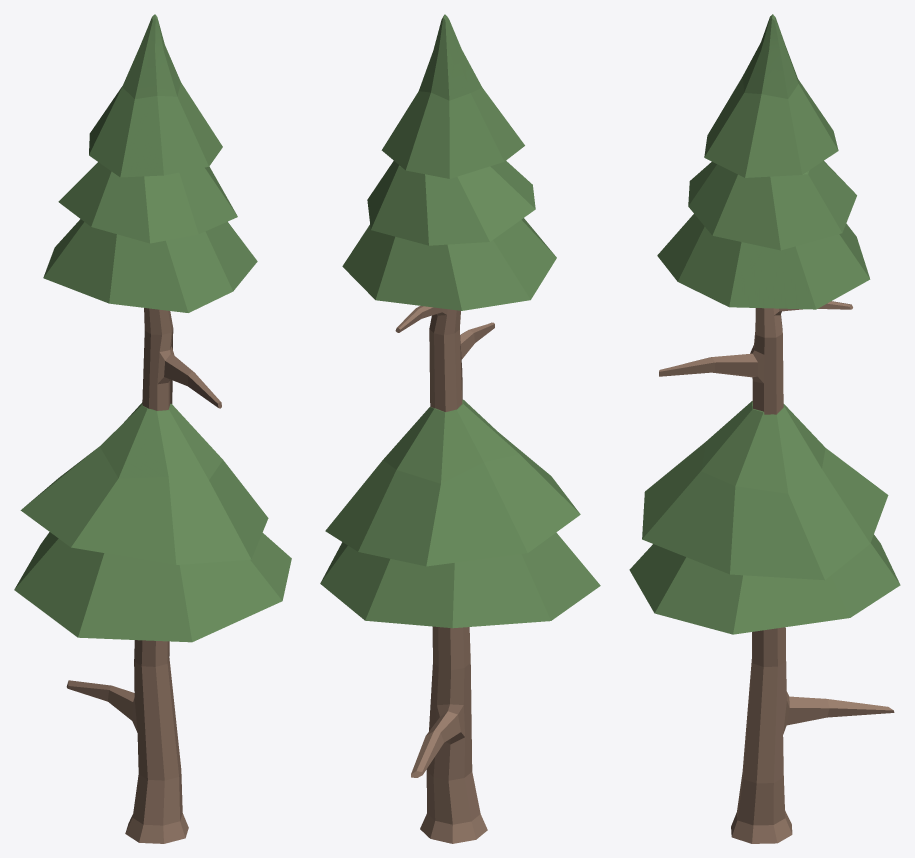
Rendered from Pine_Trees_Pack_Pine_05.fbx.
3 renders of one model, left to right at view 1: azimuth 30°, elevation 25°; view 2: azimuth 150°, elevation 25°; view 3: azimuth 270°, elevation 25°, orthographic.
Visible parts, largest first — view 1: Pine_Trees_Pack_Pine_05; view 2: Pine_Trees_Pack_Pine_05; view 3: Pine_Trees_Pack_Pine_05.
Boxes of the visible parts, <box> form: Pine_Trees_Pack_Pine_05: <box>14,14,291,843</box>; Pine_Trees_Pack_Pine_05: <box>320,14,600,843</box>; Pine_Trees_Pack_Pine_05: <box>629,14,900,843</box>.
Bounding box in the file's own units: 178 × 574 × 173.
